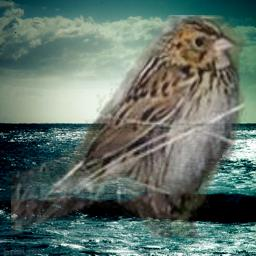Sparrow: (11, 15, 247, 238)
